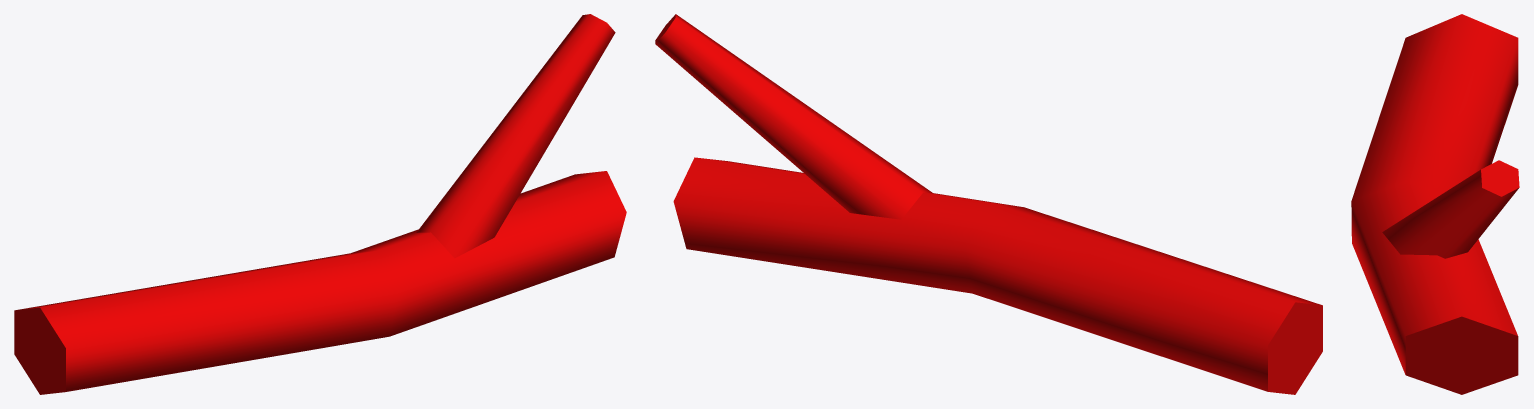
Rendered from Branch.fbx.
3 views of the same model, side by side, from view 1: azimuth 30°, elevation 25°; view 2: azimuth 150°, elevation 25°; view 3: azimuth 270°, elevation 25° (orthographic). The views are drawn at different scales.
Parts seen in each view (by area): view 1: Branch; view 2: Branch; view 3: Branch.
Part boxes in pixels (<box>): Branch: <box>14,14,626,394</box>; Branch: <box>655,14,1322,394</box>; Branch: <box>1351,14,1519,394</box>.
Size of the model in its own units: 1.02 by 0.3818 by 0.2327.
